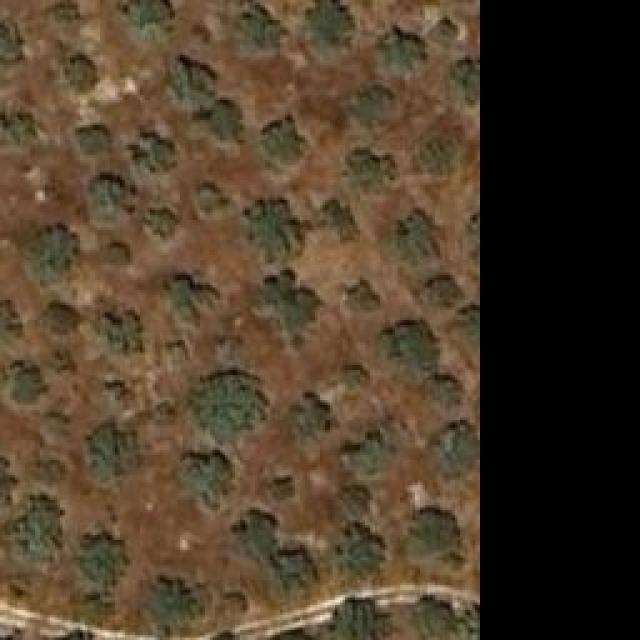Tree: (255, 275, 315, 343), (135, 573, 195, 635), (5, 505, 68, 563), (195, 375, 255, 435), (425, 415, 480, 478), (240, 195, 295, 255), (85, 428, 135, 488), (75, 535, 128, 590), (403, 510, 453, 568), (160, 60, 213, 113), (228, 503, 282, 555), (238, 0, 288, 54), (20, 225, 70, 278), (303, 3, 357, 52), (385, 322, 438, 370), (335, 525, 385, 575), (376, 20, 428, 67), (265, 543, 312, 594), (393, 213, 438, 266), (412, 133, 459, 183), (348, 80, 397, 127), (343, 432, 393, 478), (173, 455, 226, 498), (333, 595, 383, 640), (415, 590, 460, 640), (123, 0, 176, 40), (345, 145, 388, 193), (97, 313, 145, 356), (197, 103, 242, 147), (258, 123, 301, 168), (298, 393, 339, 440), (88, 178, 128, 221), (135, 132, 180, 170), (165, 280, 213, 315), (73, 593, 116, 632), (0, 117, 40, 155), (423, 273, 464, 310), (320, 198, 355, 241), (338, 280, 381, 315), (428, 373, 465, 413), (448, 55, 478, 104), (7, 365, 45, 403), (333, 485, 371, 522), (75, 123, 113, 158), (142, 208, 180, 243), (58, 60, 93, 95), (195, 180, 228, 217), (338, 360, 374, 393), (0, 305, 22, 350), (0, 25, 22, 70), (43, 305, 76, 335), (103, 240, 133, 267)
